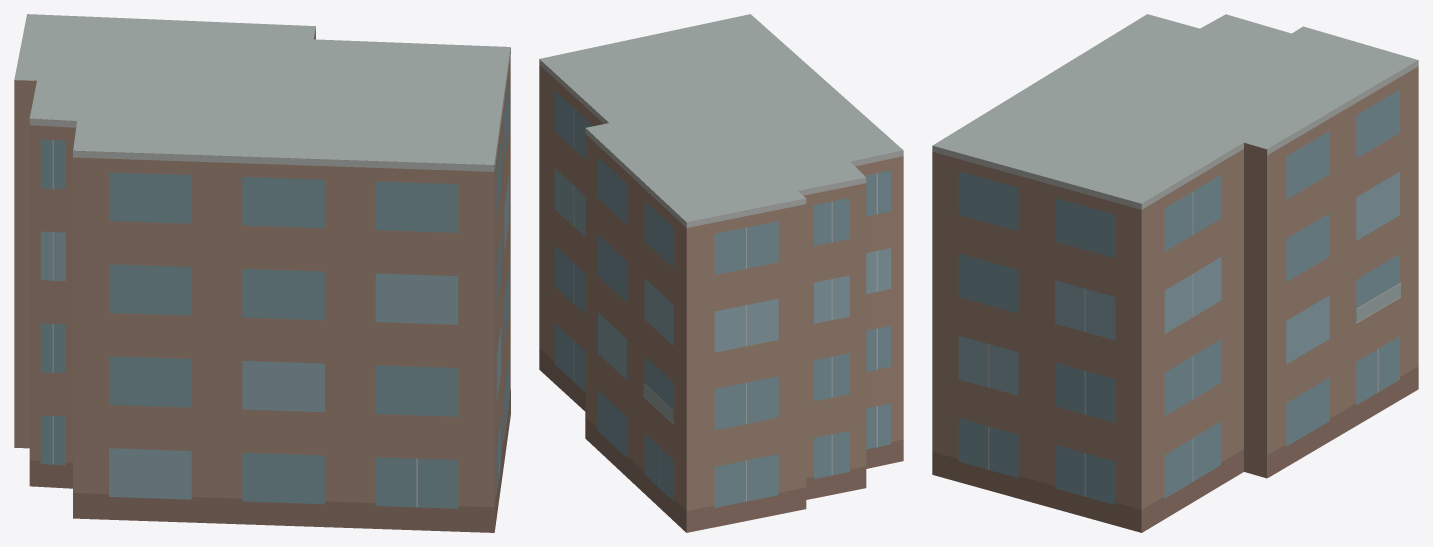
The model's file is survey-upis-32482108.glb.
3 views of the same model, side by side, from view 1: azimuth 30°, elevation 25°; view 2: azimuth 150°, elevation 25°; view 3: azimuth 270°, elevation 25° (orthographic). The views are drawn at different scales.
Parts seen in each view (by area): view 1: survey-upis-32482108.tmp; view 2: survey-upis-32482108.tmp; view 3: survey-upis-32482108.tmp.
Part boxes in pixels (x1,y1,x2,y2): survey-upis-32482108.tmp: (14, 14, 510, 532); survey-upis-32482108.tmp: (539, 14, 903, 532); survey-upis-32482108.tmp: (932, 14, 1418, 532).
Bounding box in the file's own units: 16.33 × 13.2 × 17.68.
